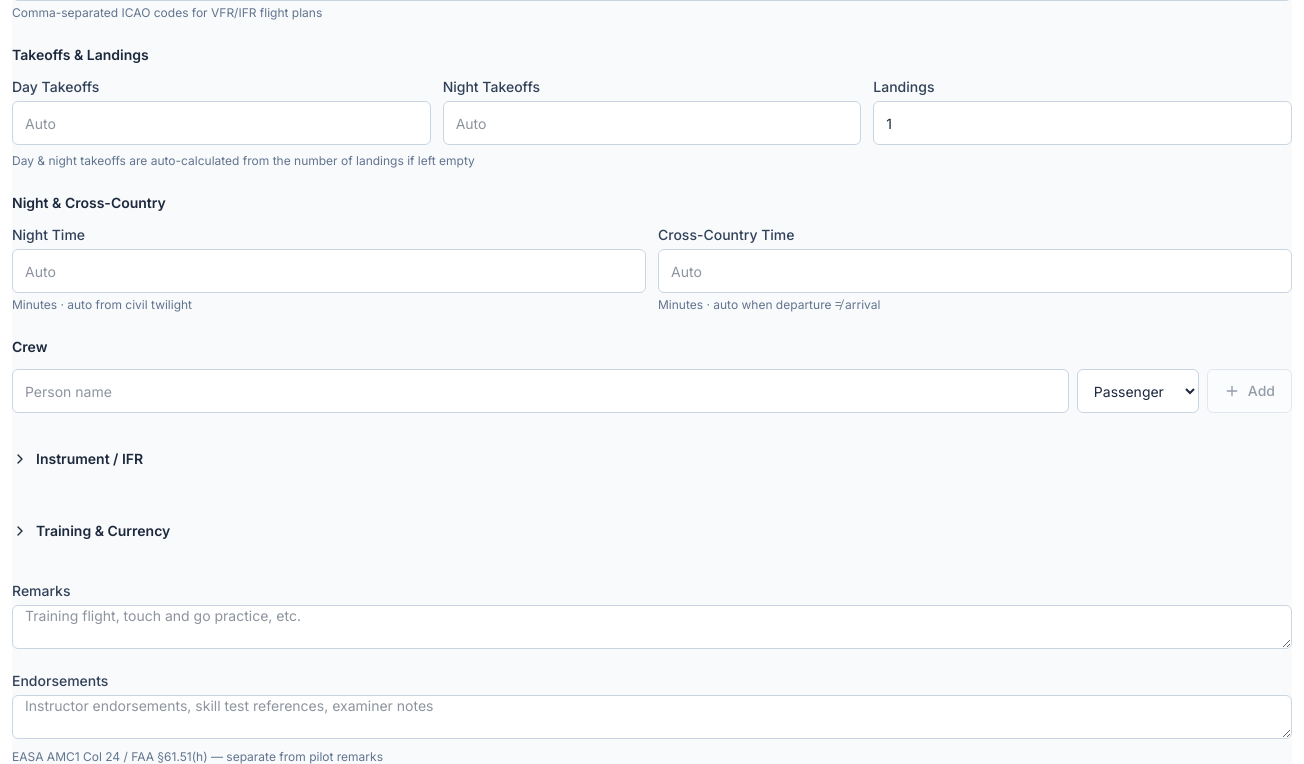
Scenario: FlightForm Crew Section › shows crew count badge next to the Crew heading
(page scrolled)
In the dropdown with placeholder "Person name": (540, 391) [12,369,1069,413], type "Person 1"
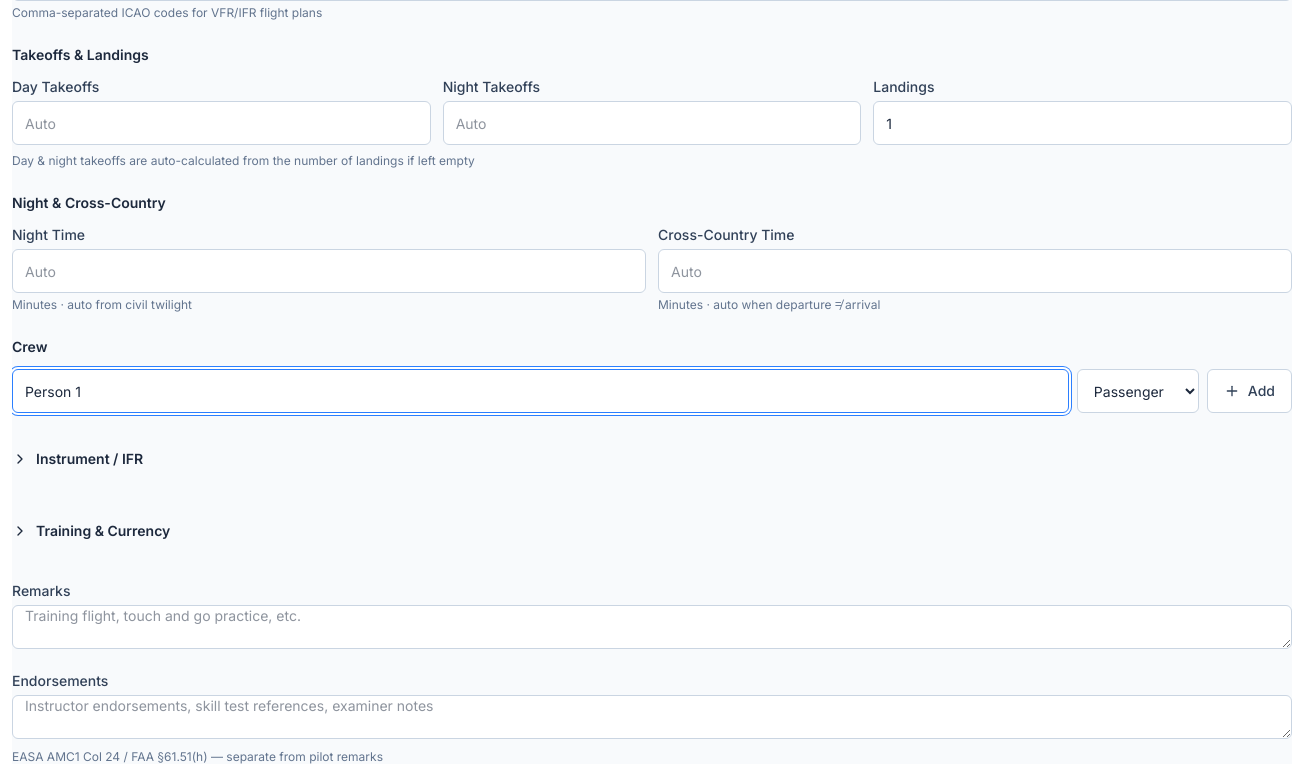
Click the button "Add": (1249, 391) [1207,369,1292,413]
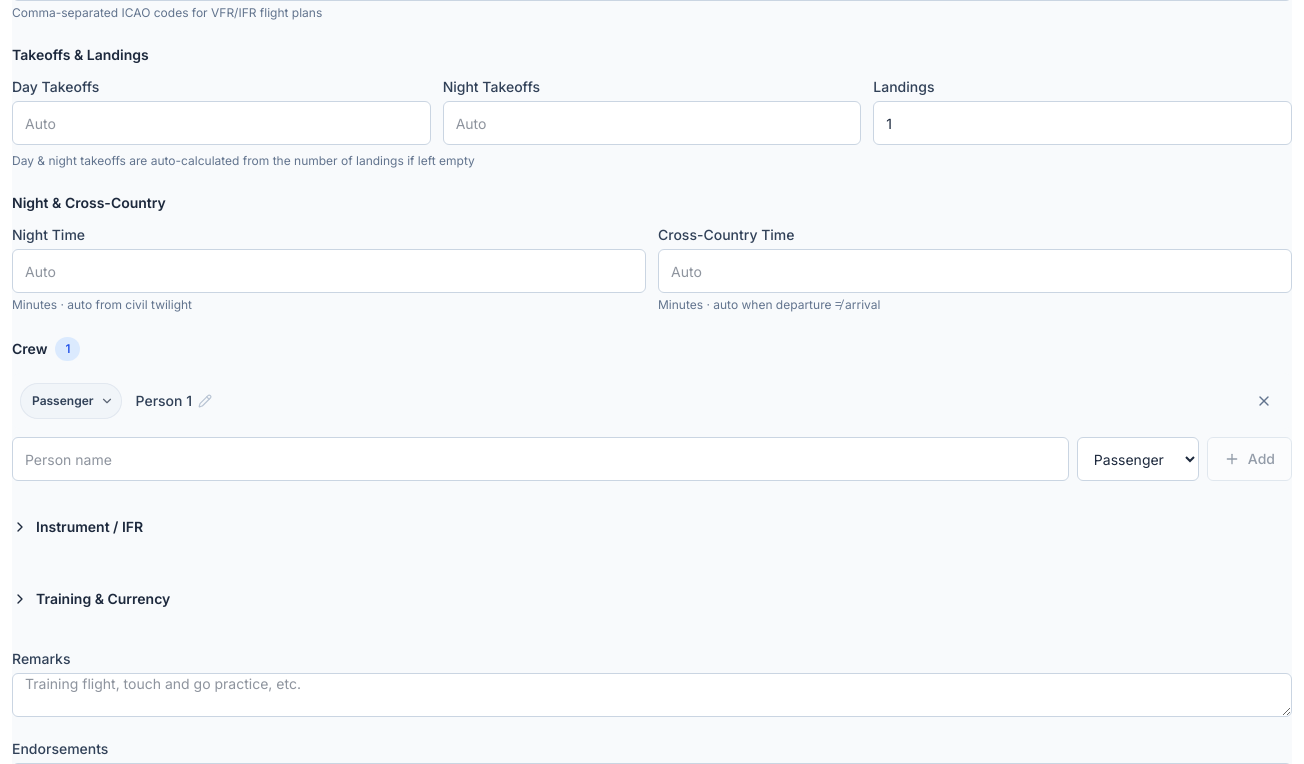
Now the text "1" is shown, box [55,337,80,361]
